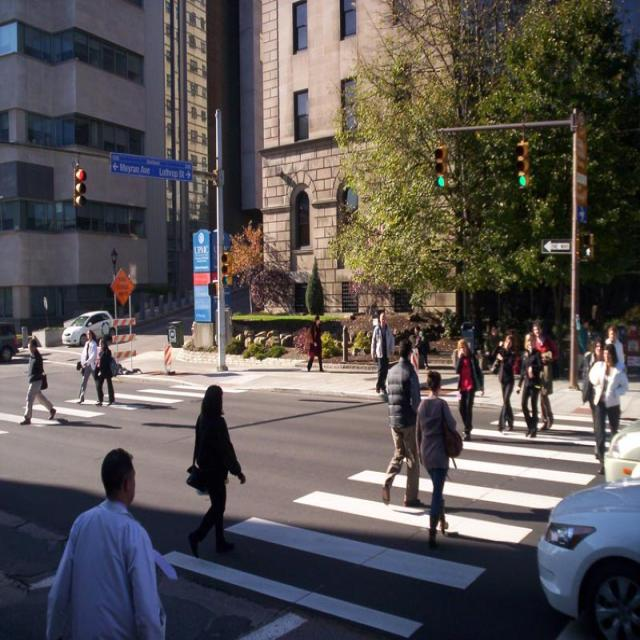body: (42, 443, 170, 639), (185, 379, 246, 555), (413, 366, 463, 548), (381, 338, 425, 508), (586, 342, 628, 478), (18, 337, 58, 426), (453, 336, 486, 443), (581, 334, 606, 461), (531, 317, 558, 431), (515, 332, 544, 438), (428, 501, 550, 526), (472, 426, 598, 450), (489, 331, 518, 434), (369, 310, 395, 396), (93, 336, 120, 405), (76, 328, 100, 405), (306, 313, 326, 374), (46, 416, 122, 430), (102, 398, 178, 412), (240, 364, 306, 378), (484, 325, 502, 375), (604, 323, 626, 363), (414, 326, 424, 368)
